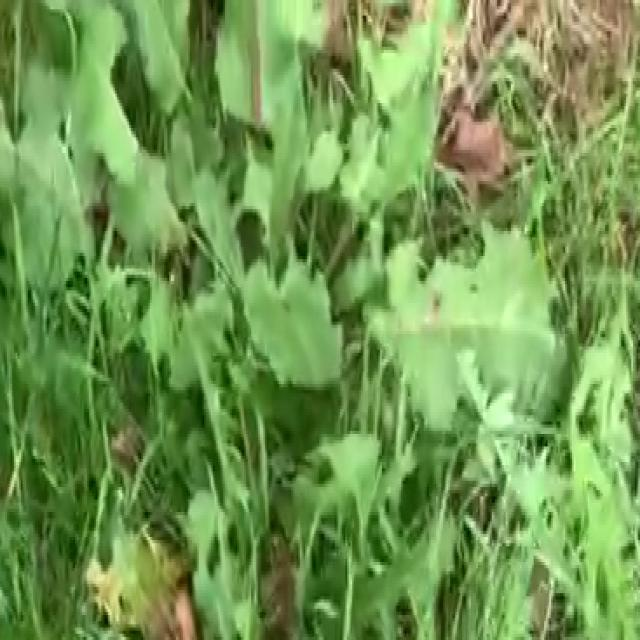organic waste: (0, 0, 598, 556)
